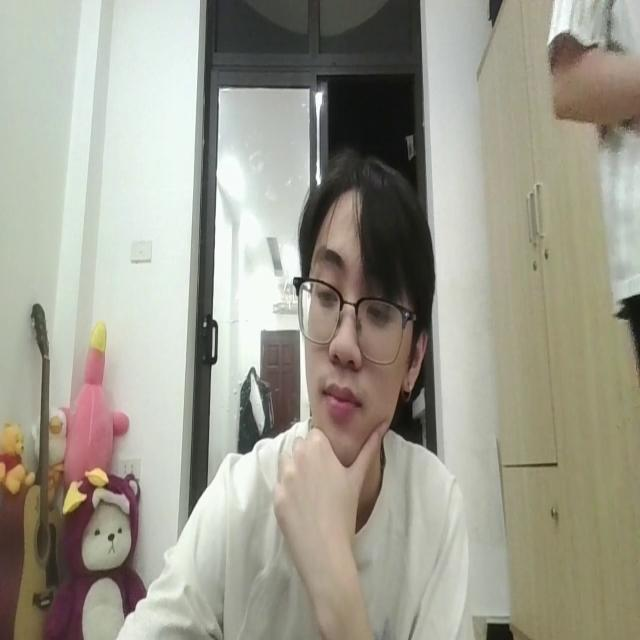student: (100, 153, 472, 640)
